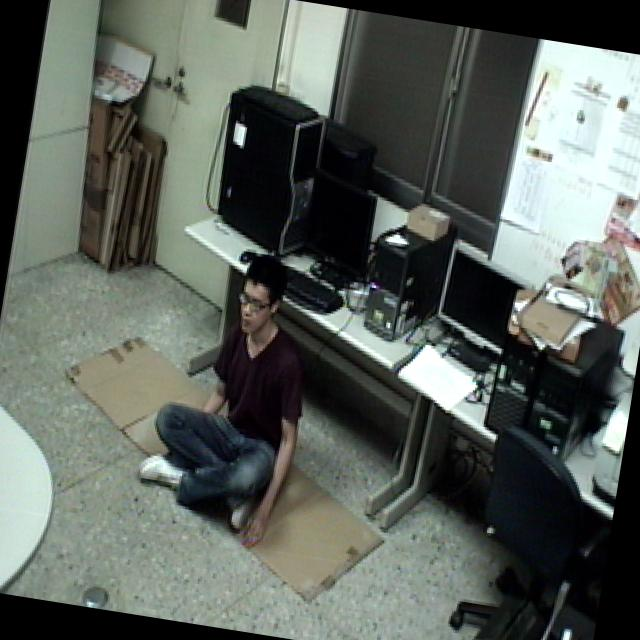sit: (125, 232, 334, 554)
